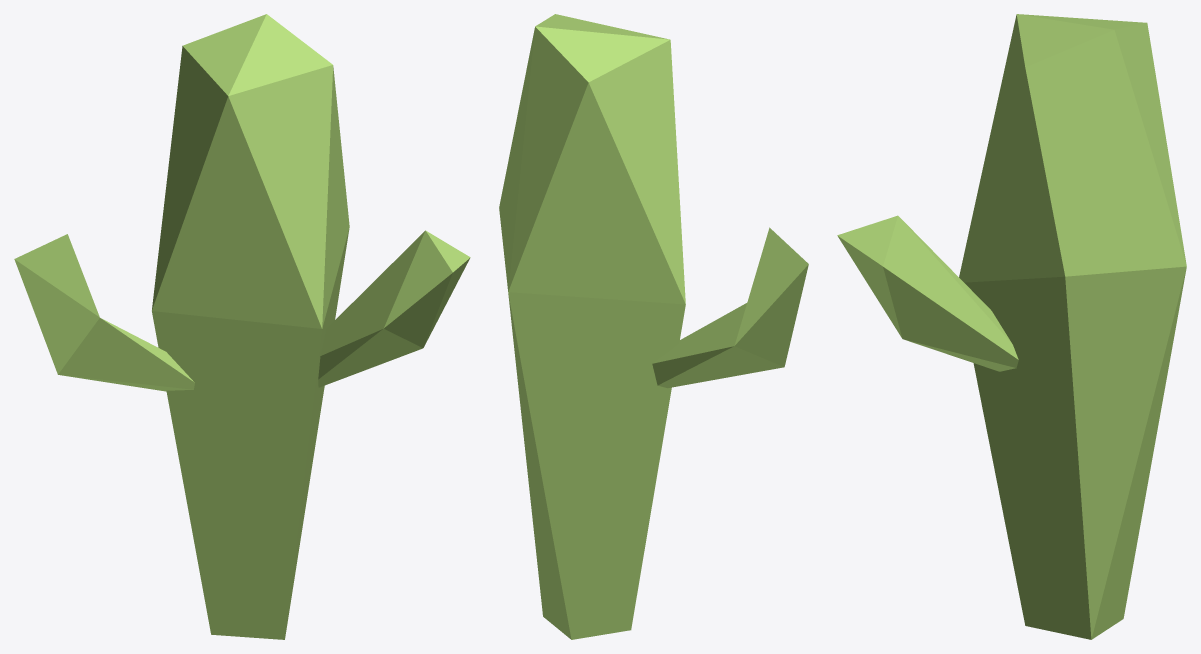
File: Cactus_s_03.fbx
3 renders of one model, left to right at view 1: azimuth 30°, elevation 25°; view 2: azimuth 150°, elevation 25°; view 3: azimuth 270°, elevation 25°, orthographic. The views are drawn at different scales.
Visible parts, largest first — view 1: Cactus_s_03; view 2: Cactus_s_03; view 3: Cactus_s_03.
Boxes of the visible parts, box(x1,y1,x2,y2) form: Cactus_s_03: box(14, 14, 470, 639); Cactus_s_03: box(499, 14, 808, 639); Cactus_s_03: box(837, 14, 1186, 639).
Size of the model in its own units: 40.9 by 65.29 by 33.95.
